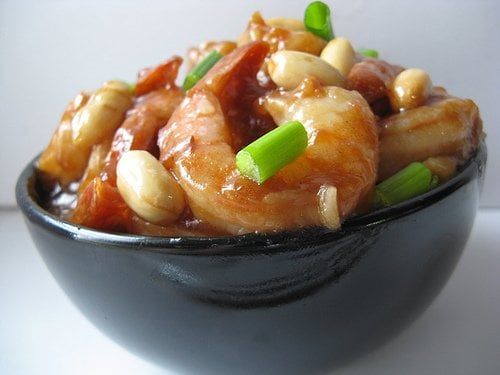sushi: (13, 6, 488, 373)
